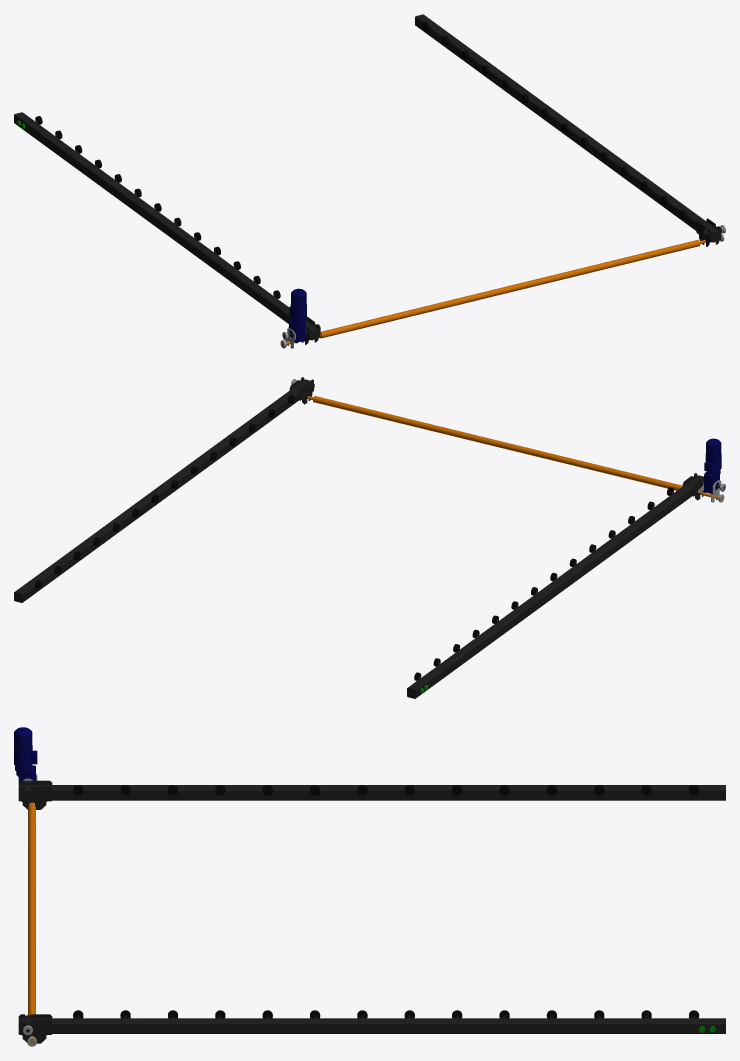
The model's file is SHELF-U-3.obj.
3 renders of one model, top to bottom at view 1: azimuth 30°, elevation 25°; view 2: azimuth 150°, elevation 25°; view 3: azimuth 270°, elevation 25°, orthographic. The views are drawn at different scales.
Parts seen in each view (by area): view 1: Mesh; view 2: Mesh; view 3: Mesh.
Boxes of the visible parts, <box> form: Mesh: <box>14,14,725,348</box>; Mesh: <box>14,377,725,698</box>; Mesh: <box>14,727,725,1046</box>.
Bounding box in the file's own units: 5785 × 723 × 6794.
